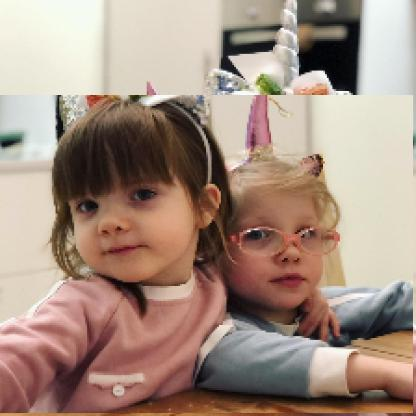child: (1, 96, 415, 415), (1, 154, 189, 347)
